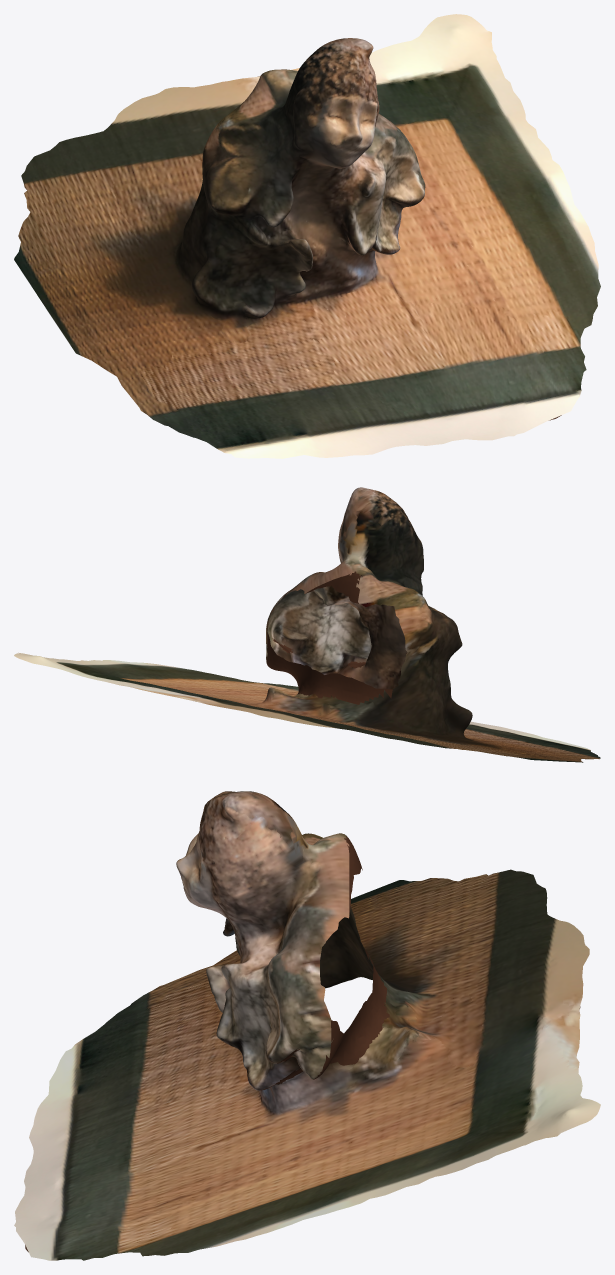
Rendered from noefy.obj.
The picture shows the model from 3 angles, top to bottom: view 1: azimuth 30°, elevation 25°; view 2: azimuth 150°, elevation 25°; view 3: azimuth 270°, elevation 25°; orthographic projection. The views are drawn at different scales.
Size of the model in its own units: 1.74 by 1.04 by 1.4.
1 material, 1 textured.
